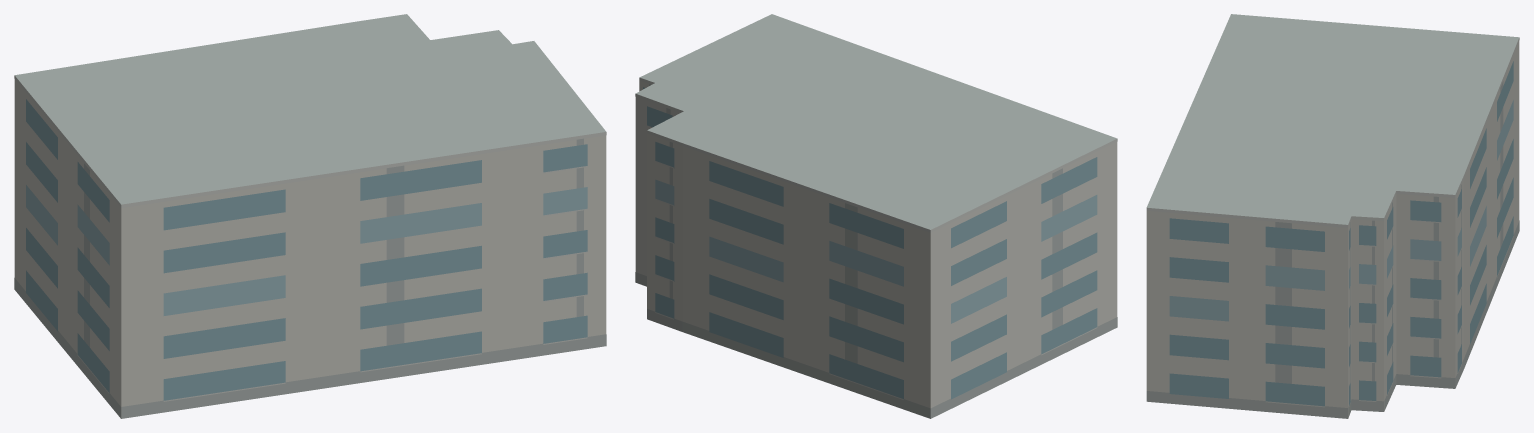
File: survey-upis-32944502.glb
3 renders of one model, left to right at view 1: azimuth 30°, elevation 25°; view 2: azimuth 150°, elevation 25°; view 3: azimuth 270°, elevation 25°, orthographic. The views are drawn at different scales.
Parts seen in each view (by area): view 1: survey-upis-32944502.tmp; view 2: survey-upis-32944502.tmp; view 3: survey-upis-32944502.tmp.
Part boxes in pixels (bbox=[...]): survey-upis-32944502.tmp: bbox=[14, 14, 606, 418]; survey-upis-32944502.tmp: bbox=[635, 14, 1117, 418]; survey-upis-32944502.tmp: bbox=[1146, 14, 1519, 418].
Size of the model in its own units: 35.58 by 15.25 by 26.58.
